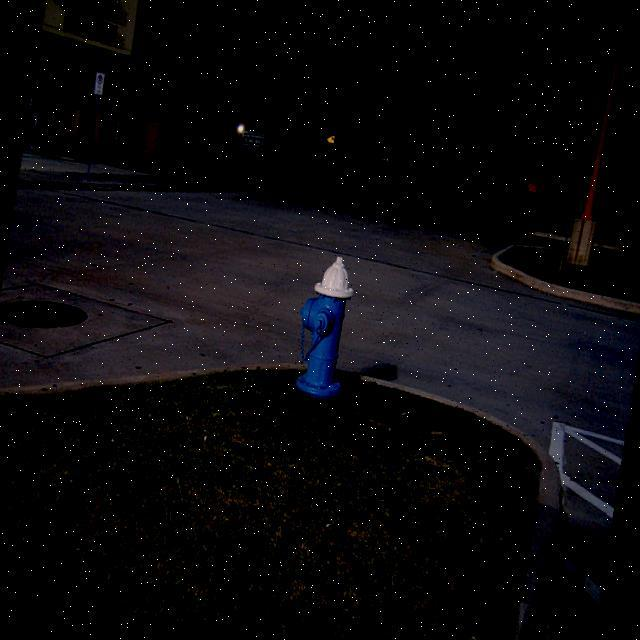fire_hydrant: (284, 253, 362, 404)
